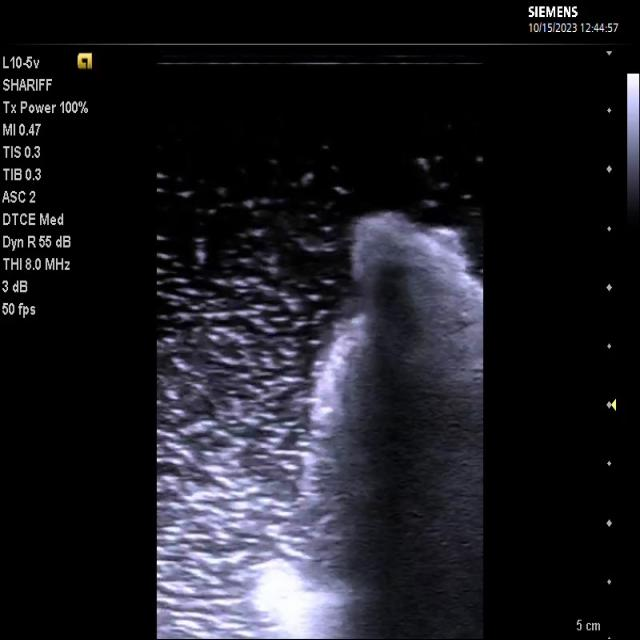tissue: (242, 210, 484, 639)
